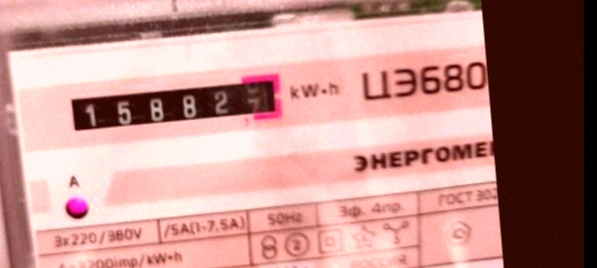1: (81, 103, 97, 129)
2: (210, 90, 227, 115)
5: (112, 99, 131, 126)
7: (244, 95, 259, 115)
8: (145, 97, 164, 125), (178, 94, 195, 120)
screen: (53, 66, 290, 148)
